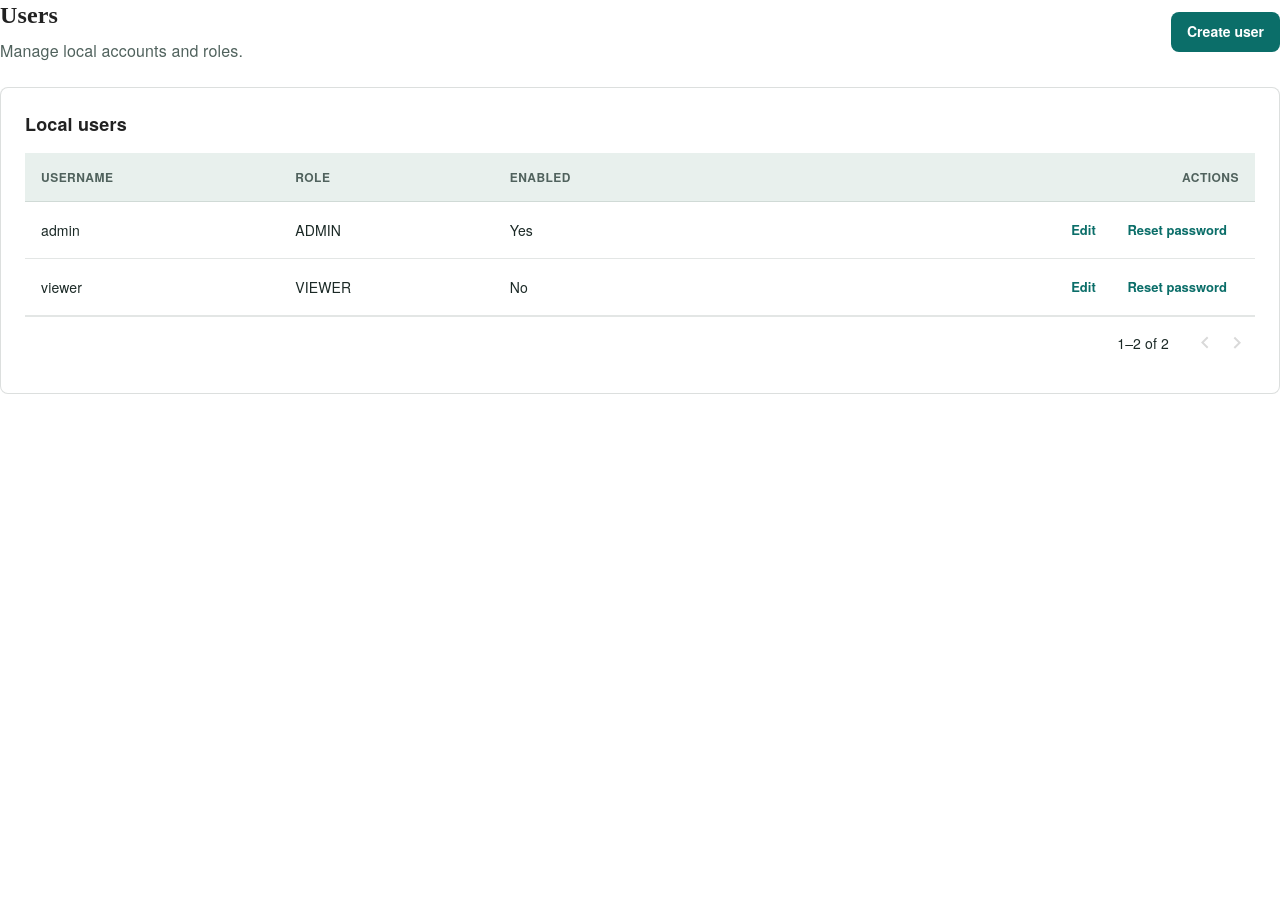
UsersPage › keeps the create dialog open when the username is rejected
This screenshot has width=1280, height=900.
Click the button "Create user".
click(1226, 32)  # box x1=1171 y1=12 x2=1279 y2=52
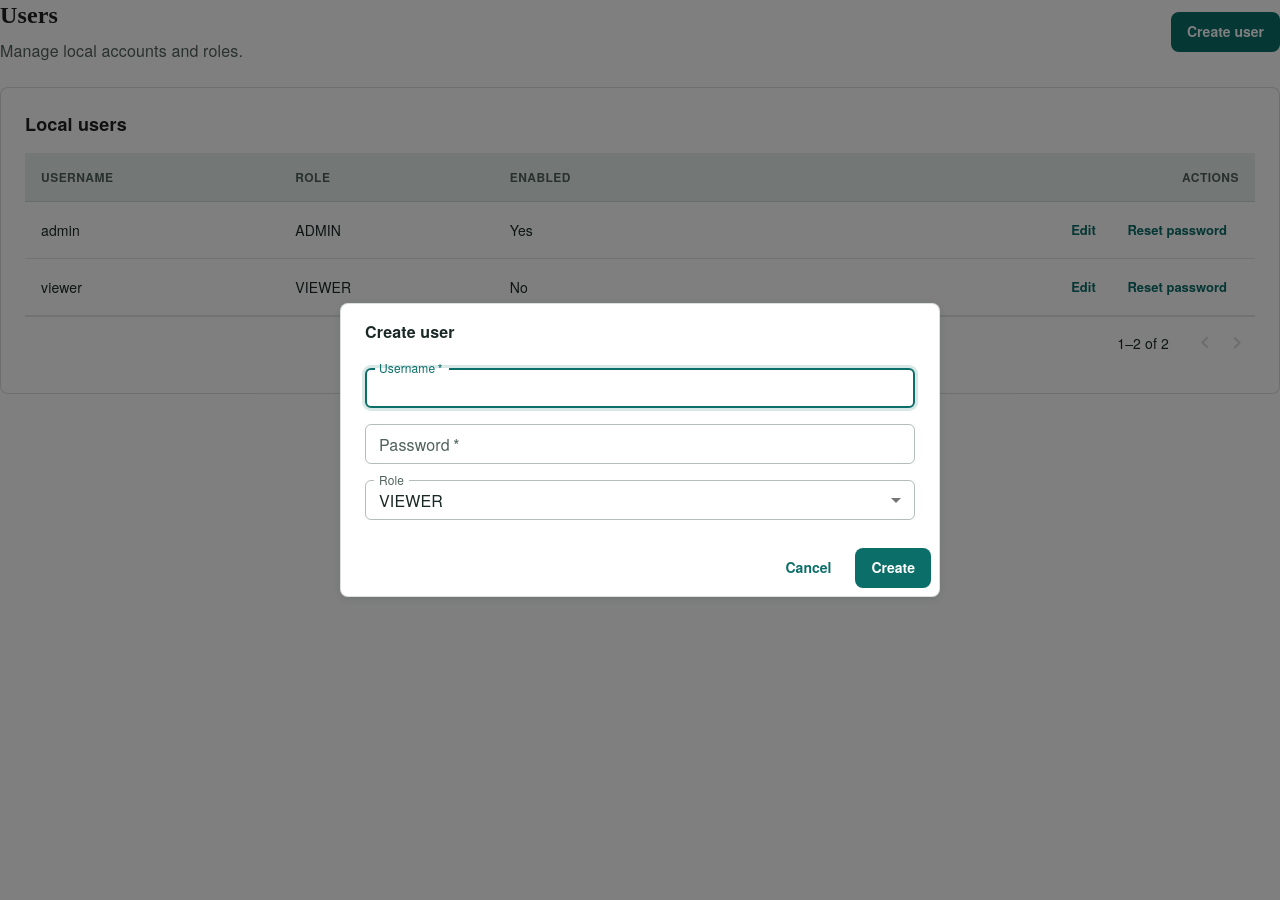
Expected: the dialog is shown, x1=340 y1=303 x2=940 y2=597
Expected: the password field labelled "Password *" is shown
Type "new-password" into the password field labelled "Password *".
click(640, 444); type("new-password")  # box x1=365 y1=424 x2=915 y2=464
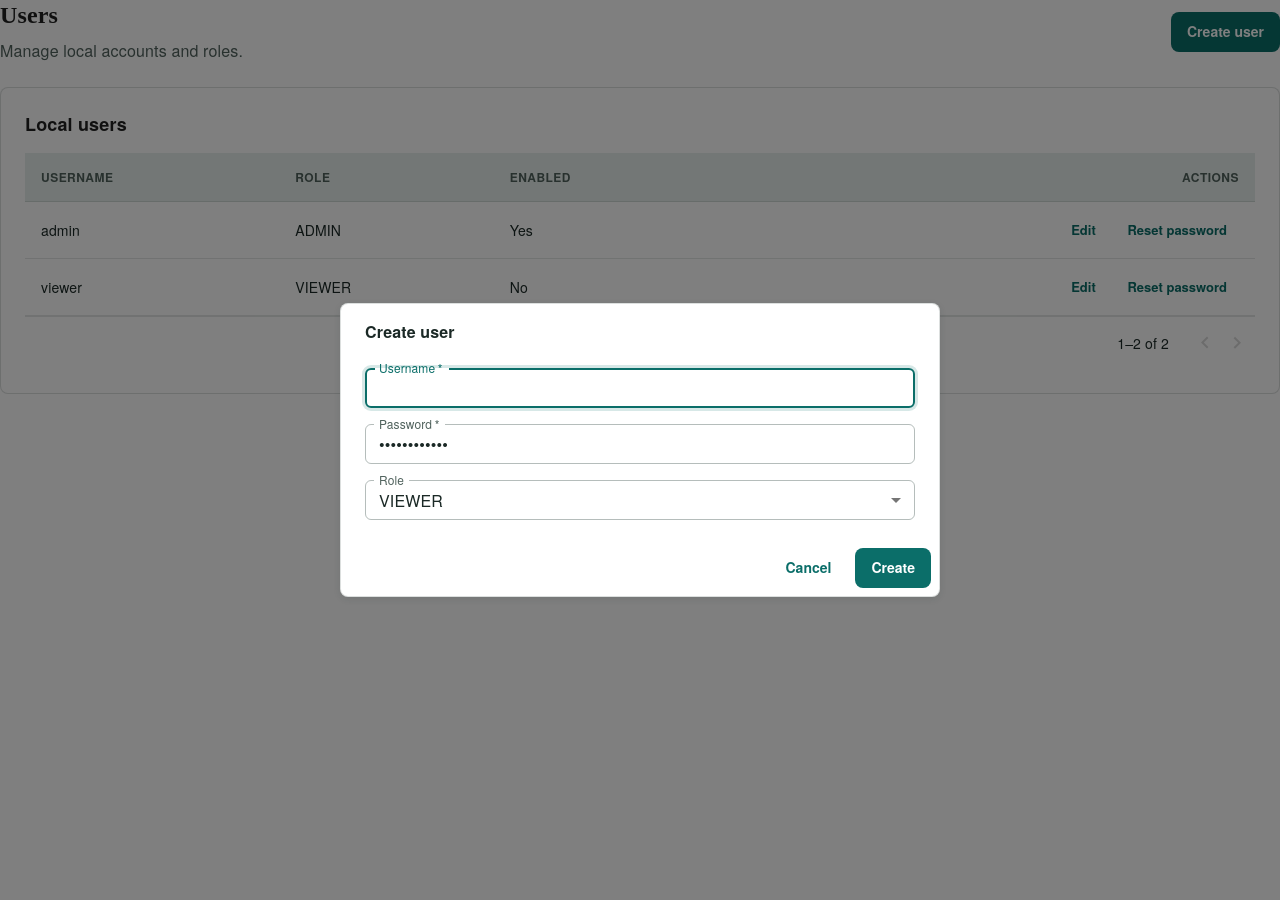
Type "admin" into the field labelled "Username".
click(640, 388); type("admin")  # box x1=365 y1=368 x2=915 y2=408
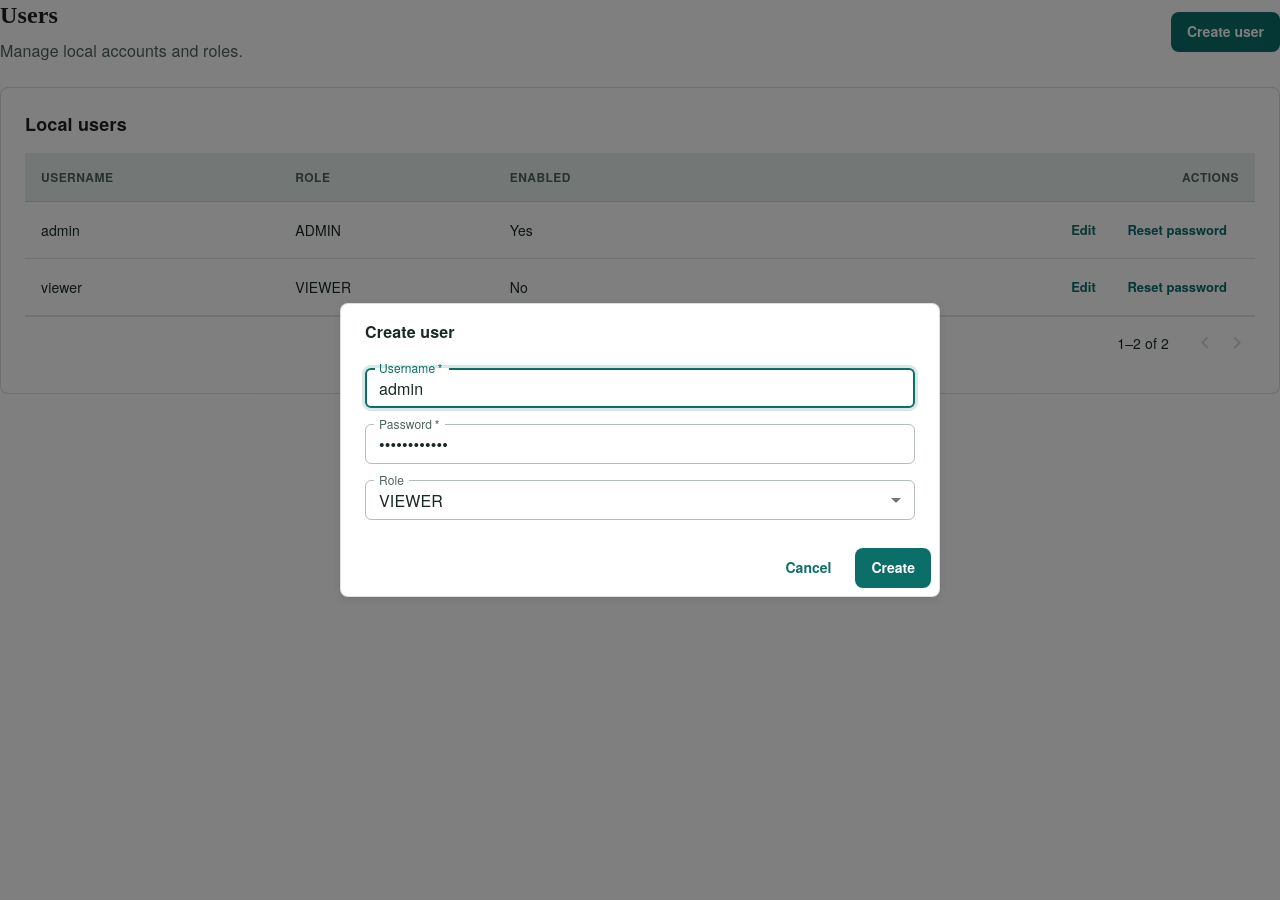
Click the button "Create".
click(893, 568)  # box x1=855 y1=548 x2=931 y2=588
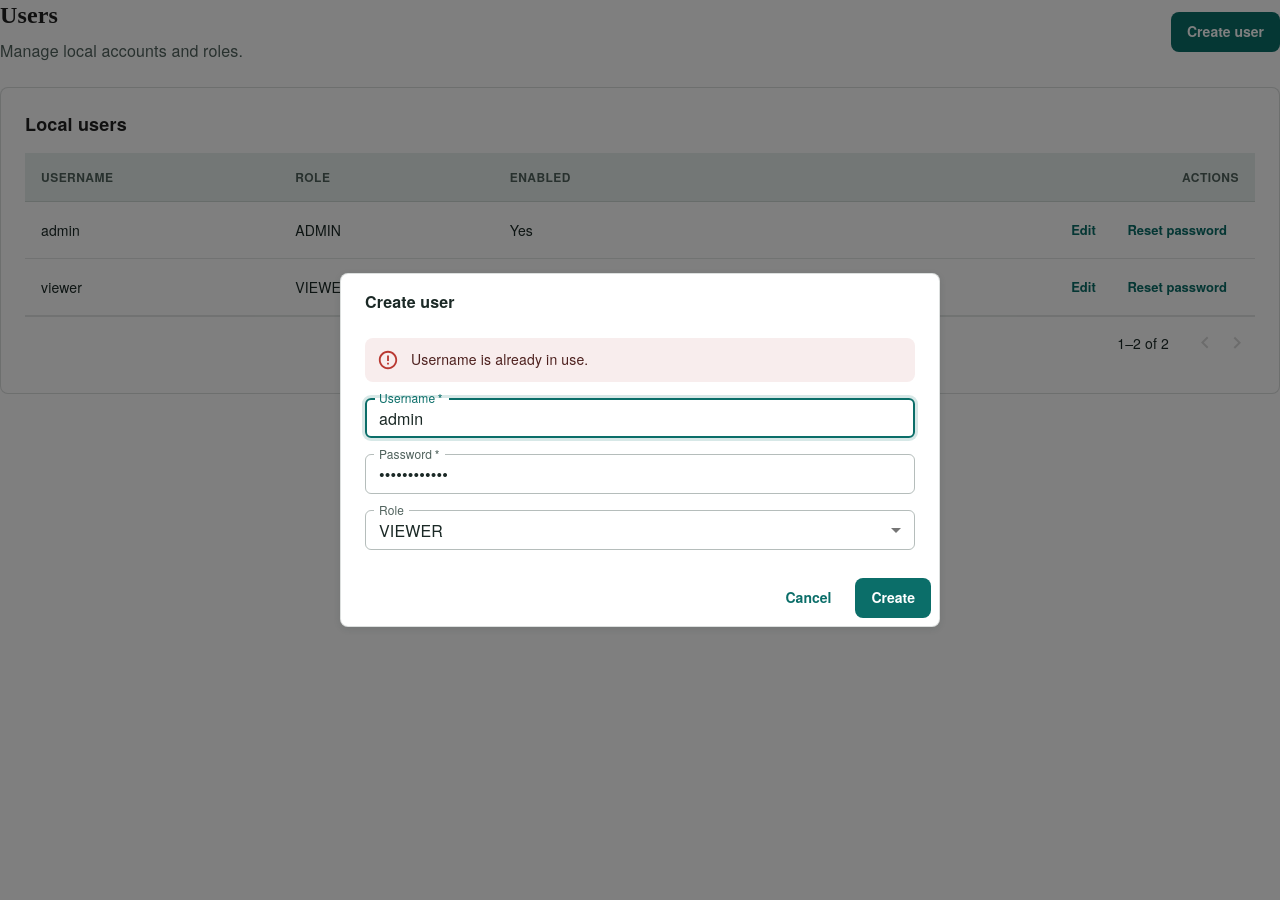
Expected: the dialog is shown, x1=340 y1=273 x2=940 y2=627
Expected: the text "Username is already in use." is shown, x1=411 y1=346 x2=588 y2=372
